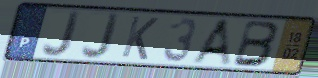3: (162, 16, 197, 65)
A: (189, 17, 234, 68)
B: (230, 18, 282, 69)
J: (39, 8, 83, 60), (79, 10, 123, 62)
K: (119, 14, 161, 62)
